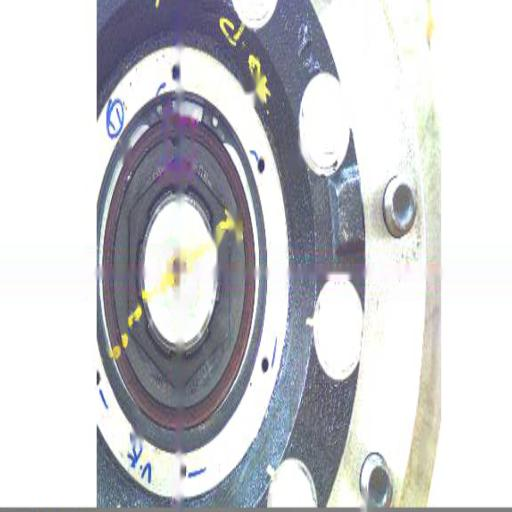center: (172, 256, 184, 284)
notch: (166, 132, 184, 159)
